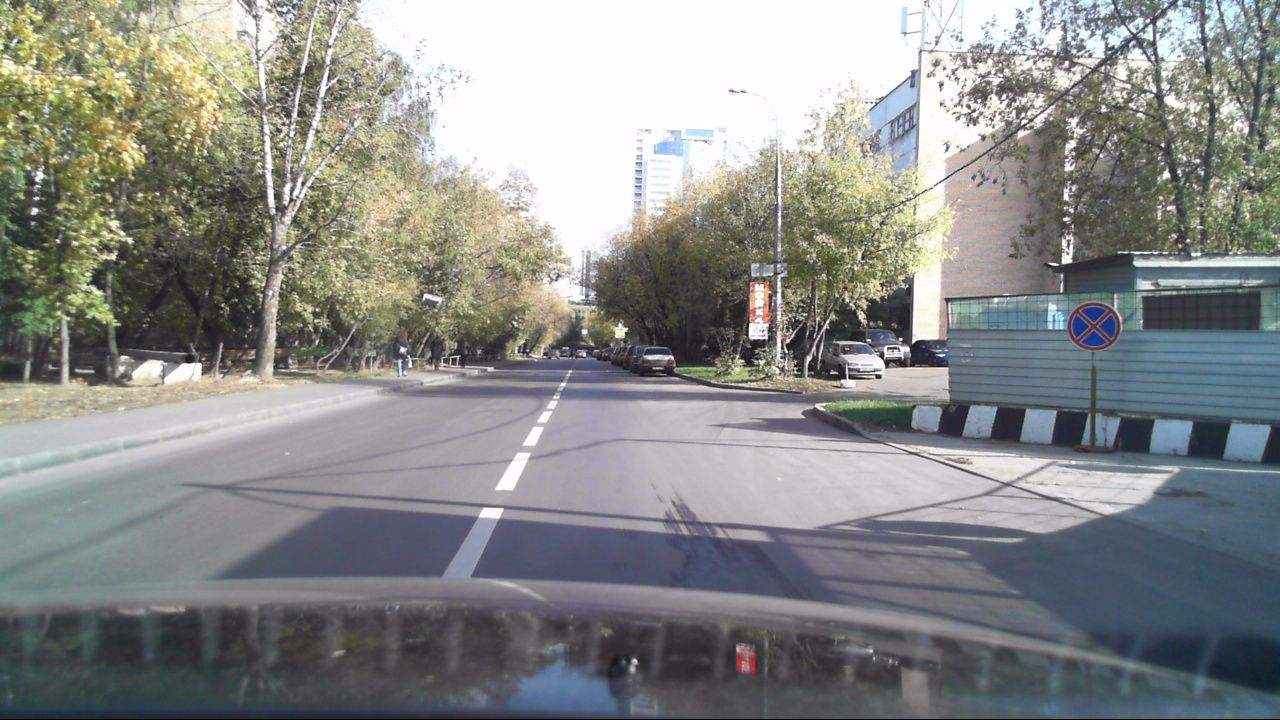No Parking: (1066, 299, 1126, 353)
